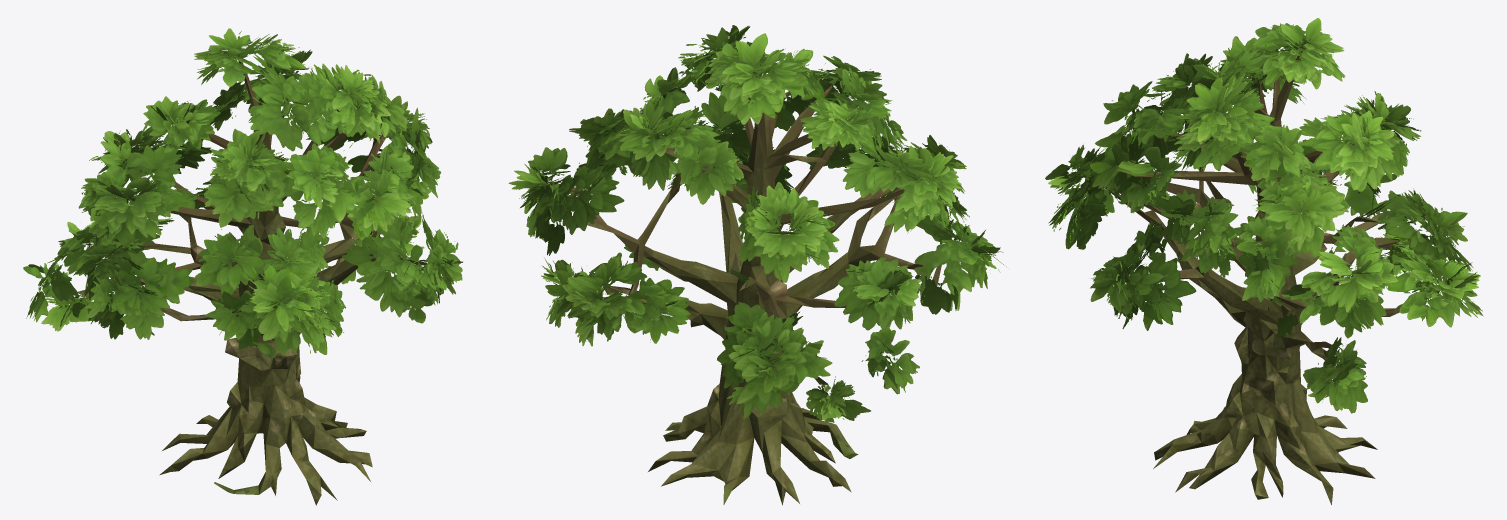
Rendered from koru_agac_lod1.glb.
3 views of the same model, side by side, from view 1: azimuth 30°, elevation 25°; view 2: azimuth 150°, elevation 25°; view 3: azimuth 270°, elevation 25° (orthographic). The views are drawn at different scales.
Visible parts, largest first — view 1: koru_agac_lod1; view 2: koru_agac_lod1; view 3: koru_agac_lod1.
Boxes of the visible parts, left/top/right/bottom form: koru_agac_lod1: left=23, top=28, right=462, bottom=505; koru_agac_lod1: left=508, top=25, right=1006, bottom=505; koru_agac_lod1: left=1045, top=18, right=1483, bottom=504.
Bounding box in the file's own units: 8.25 × 8.14 × 7.5.
Materials: 2 (2 with a texture image).
